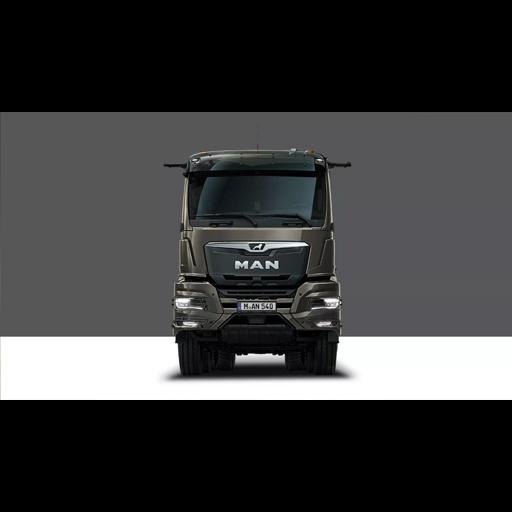truck: (165, 150, 343, 374)
